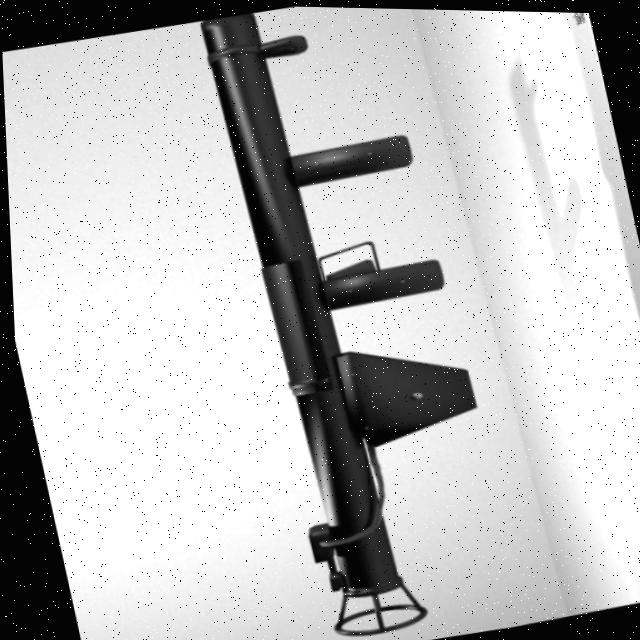rocket: (175, 3, 525, 640)
